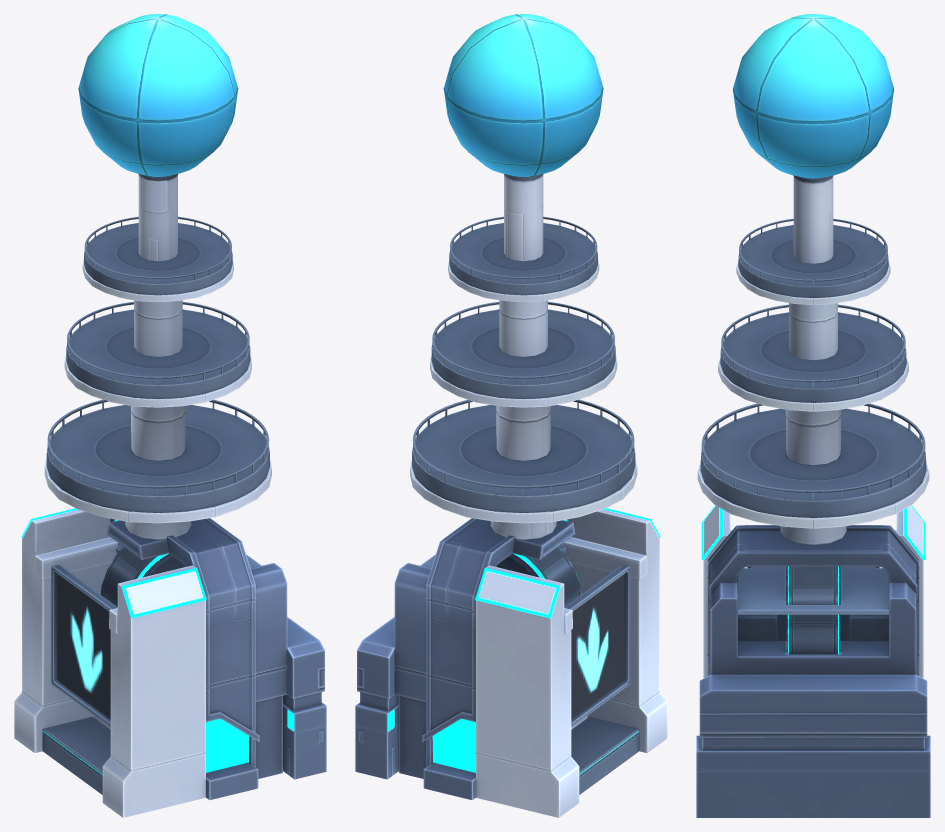
The model's file is obj_lab08.gltf.
The picture shows the model from 3 angles, left to right: view 1: azimuth 30°, elevation 25°; view 2: azimuth 150°, elevation 25°; view 3: azimuth 270°, elevation 25°; orthographic projection.
Visible parts, largest first — view 1: obj_lab08; view 2: obj_lab08; view 3: obj_lab08.
Boxes of the visible parts, x1=… form: obj_lab08: x1=14, y1=14, x2=326, y2=817; obj_lab08: x1=355, y1=14, x2=667, y2=817; obj_lab08: x1=696, y1=14, x2=930, y2=817.
Size of what is drawn, in the model's own units: 2.22 by 7.47 by 2.13.
Materials: 6 (6 with a texture image).
